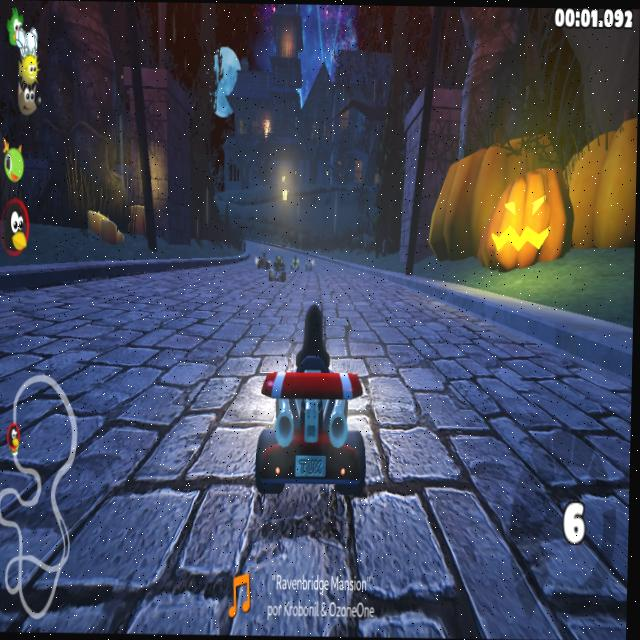enemy_kart: (266, 257, 287, 284), (290, 255, 301, 272), (306, 258, 316, 274)
player_kart: (254, 310, 368, 508)
track: (0, 510, 629, 640), (0, 284, 258, 507), (365, 309, 633, 518), (137, 267, 266, 287), (372, 278, 457, 307), (292, 276, 372, 304), (318, 256, 378, 275), (253, 239, 296, 252), (212, 254, 253, 267)
